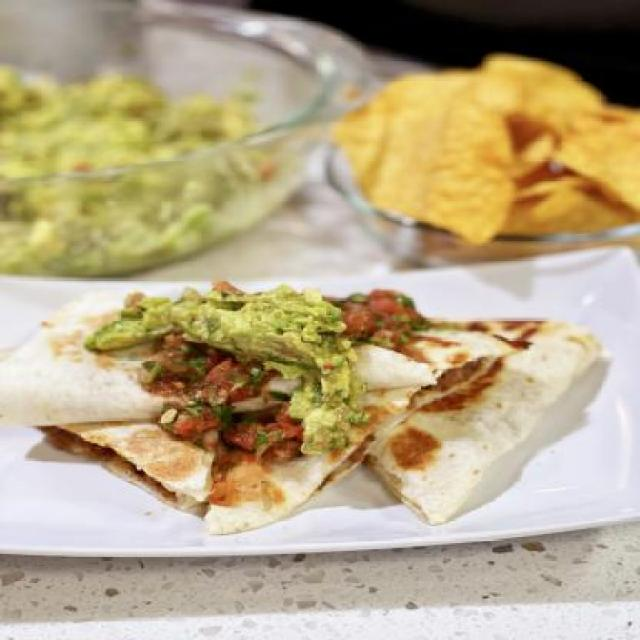chicken quesadilla: (3, 284, 612, 538)
guacamole: (2, 47, 309, 273), (87, 288, 373, 457)
nachos: (346, 48, 639, 243)
